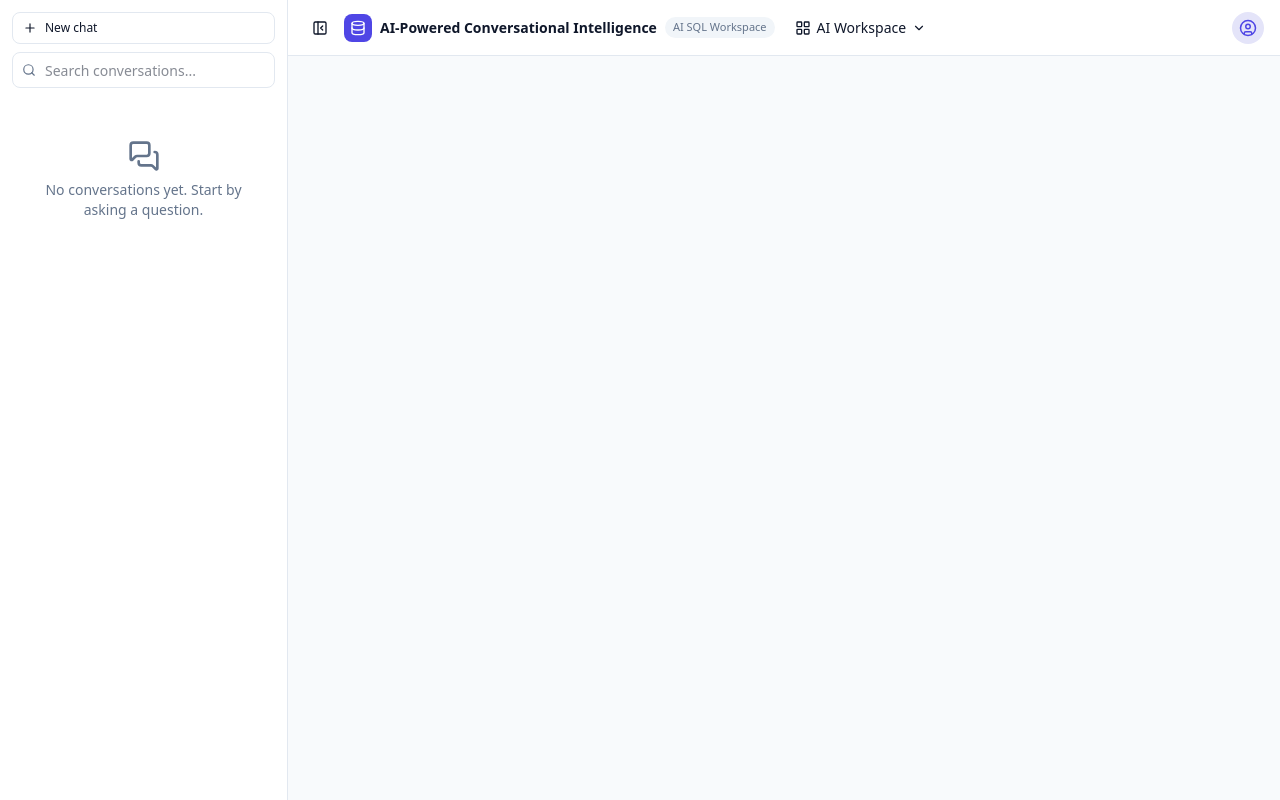
Test: AppShell Platform Admin nav gating › shows the Platform Admin tab only for the platform_admin role
The width and height of the screenshot is (1280, 800).
Click the button "AI Workspace" at (860, 28), box [782,12,938,44]
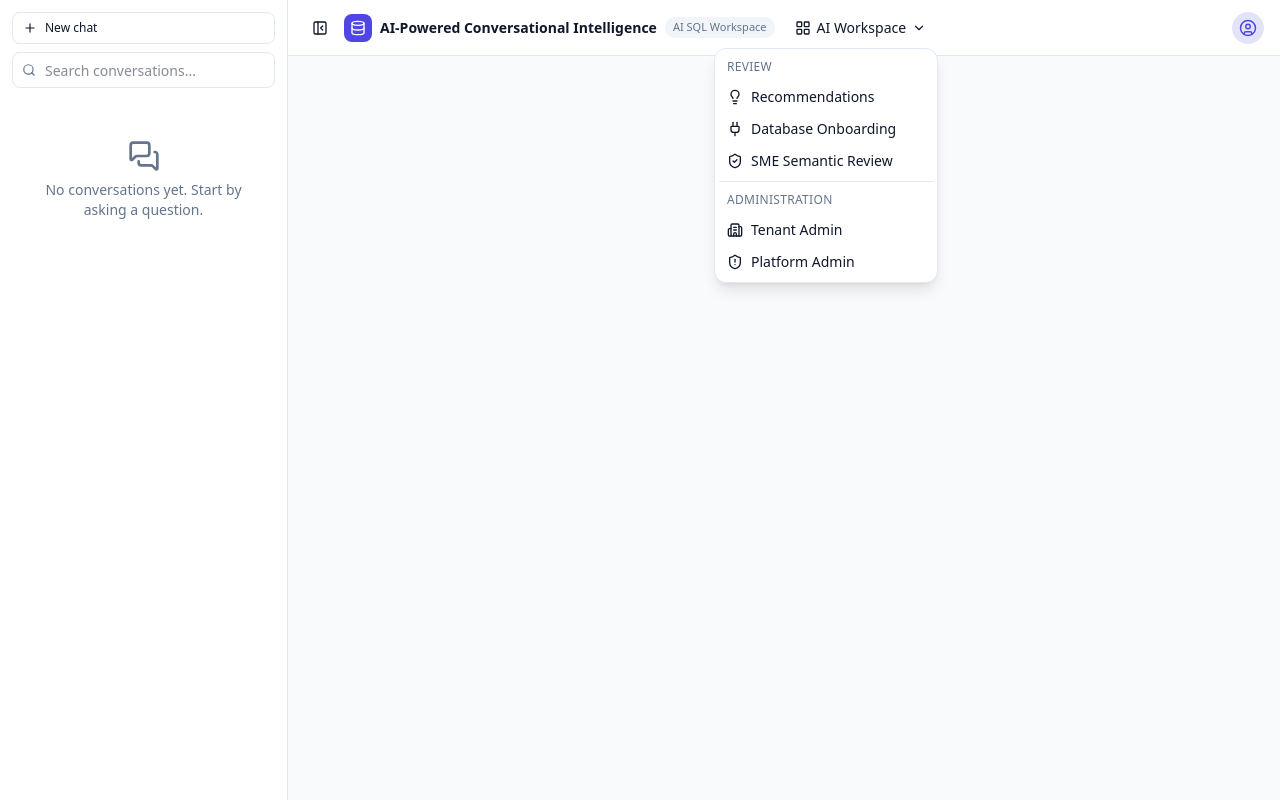
Expected: the menu item "Platform Admin" is shown, [727,252,855,271]
